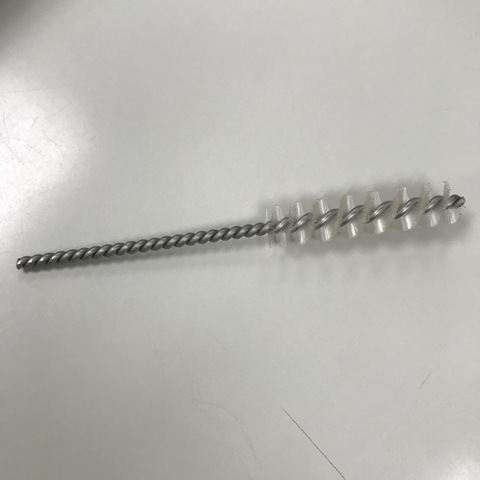Twist Brush-B: (18, 175, 472, 271)
